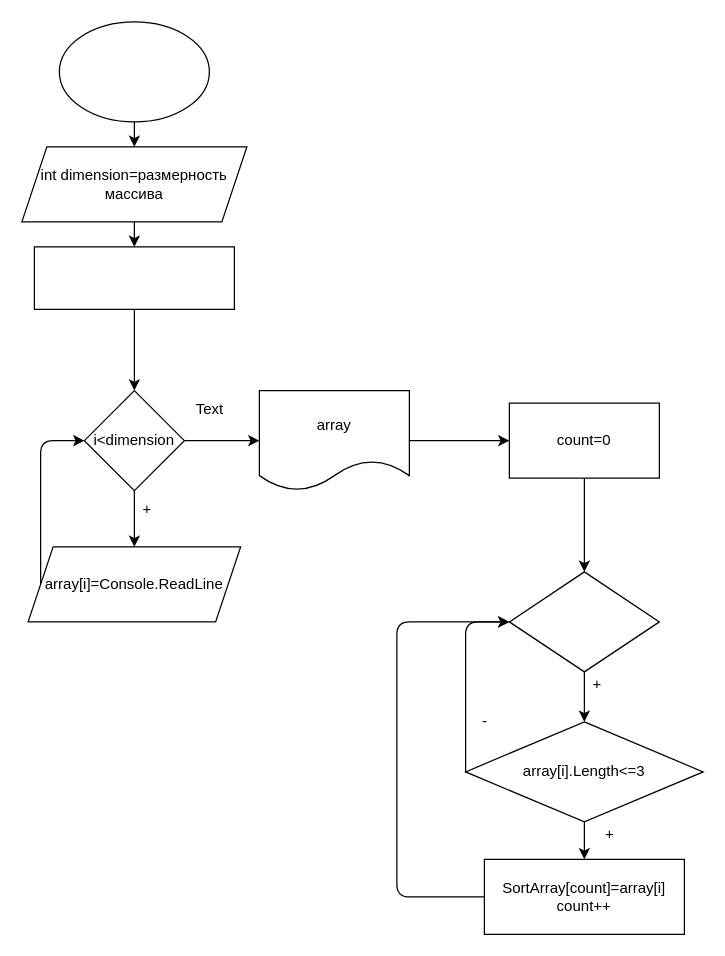
This 725x956 diagram has some shape labels left out. The centre of each missing label's shape, as x and y in pixels:
"i<array.Length" goes at (583,621).
"start" goes at (133,71).
"string [ ] array=new[ ] string [ ] SortArray=new [ ]" goes at (133,277).
